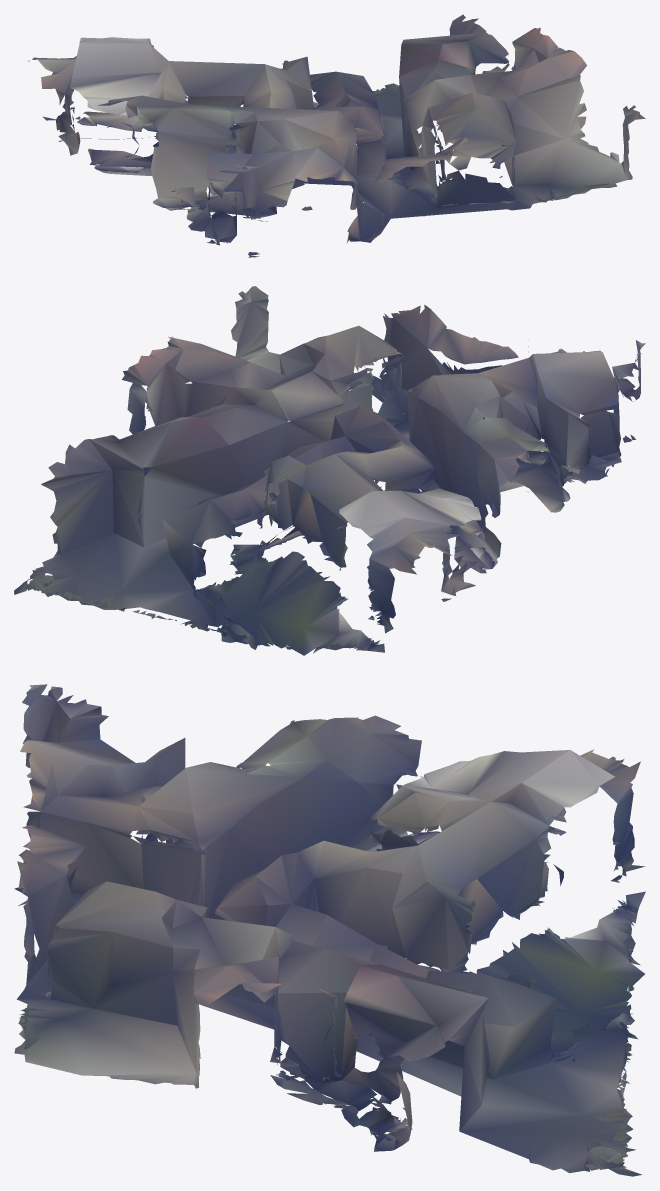
3 renders of one model, top to bottom at view 1: azimuth 30°, elevation 25°; view 2: azimuth 150°, elevation 25°; view 3: azimuth 270°, elevation 25°, orthographic. The views are drawn at different scales.
Bounding box in the file's own units: 107 × 43.33 × 106.
